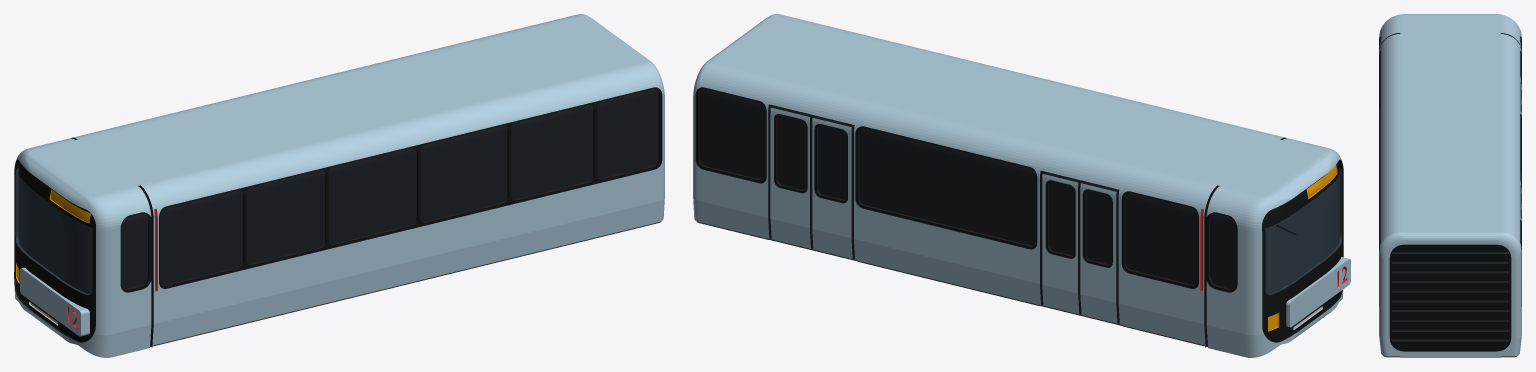
File: schwebebahn.glb
3 views of the same model, side by side, from view 1: azimuth 30°, elevation 25°; view 2: azimuth 150°, elevation 25°; view 3: azimuth 270°, elevation 25° (orthographic). The views are drawn at different scales.
Parts seen in each view (by area): view 1: wsw_schwebebahn; view 2: wsw_schwebebahn; view 3: wsw_schwebebahn.
Boxes of the visible parts, left/top/right/bottom form: wsw_schwebebahn: left=14, top=14, right=664, bottom=357; wsw_schwebebahn: left=693, top=14, right=1350, bottom=357; wsw_schwebebahn: left=1379, top=14, right=1521, bottom=357.
Size of the model in its own units: 150 by 38 by 40.
